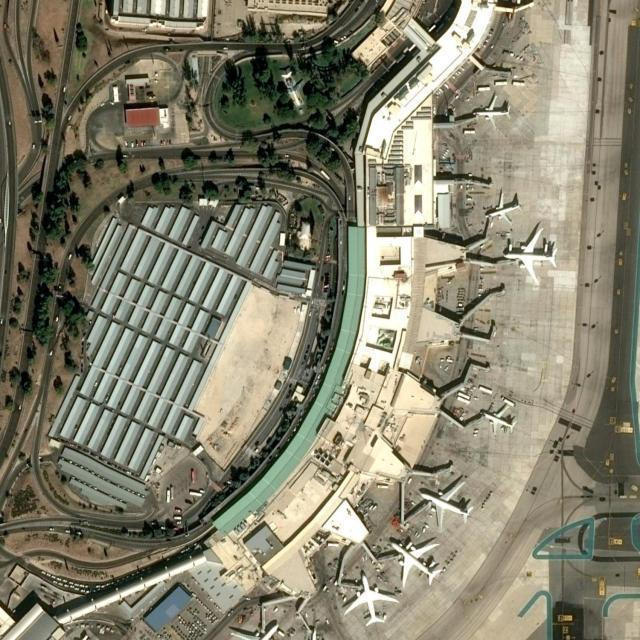Aircraft: (501, 227, 555, 283), (342, 574, 398, 626), (390, 536, 443, 585), (421, 484, 477, 529), (480, 402, 516, 434)
